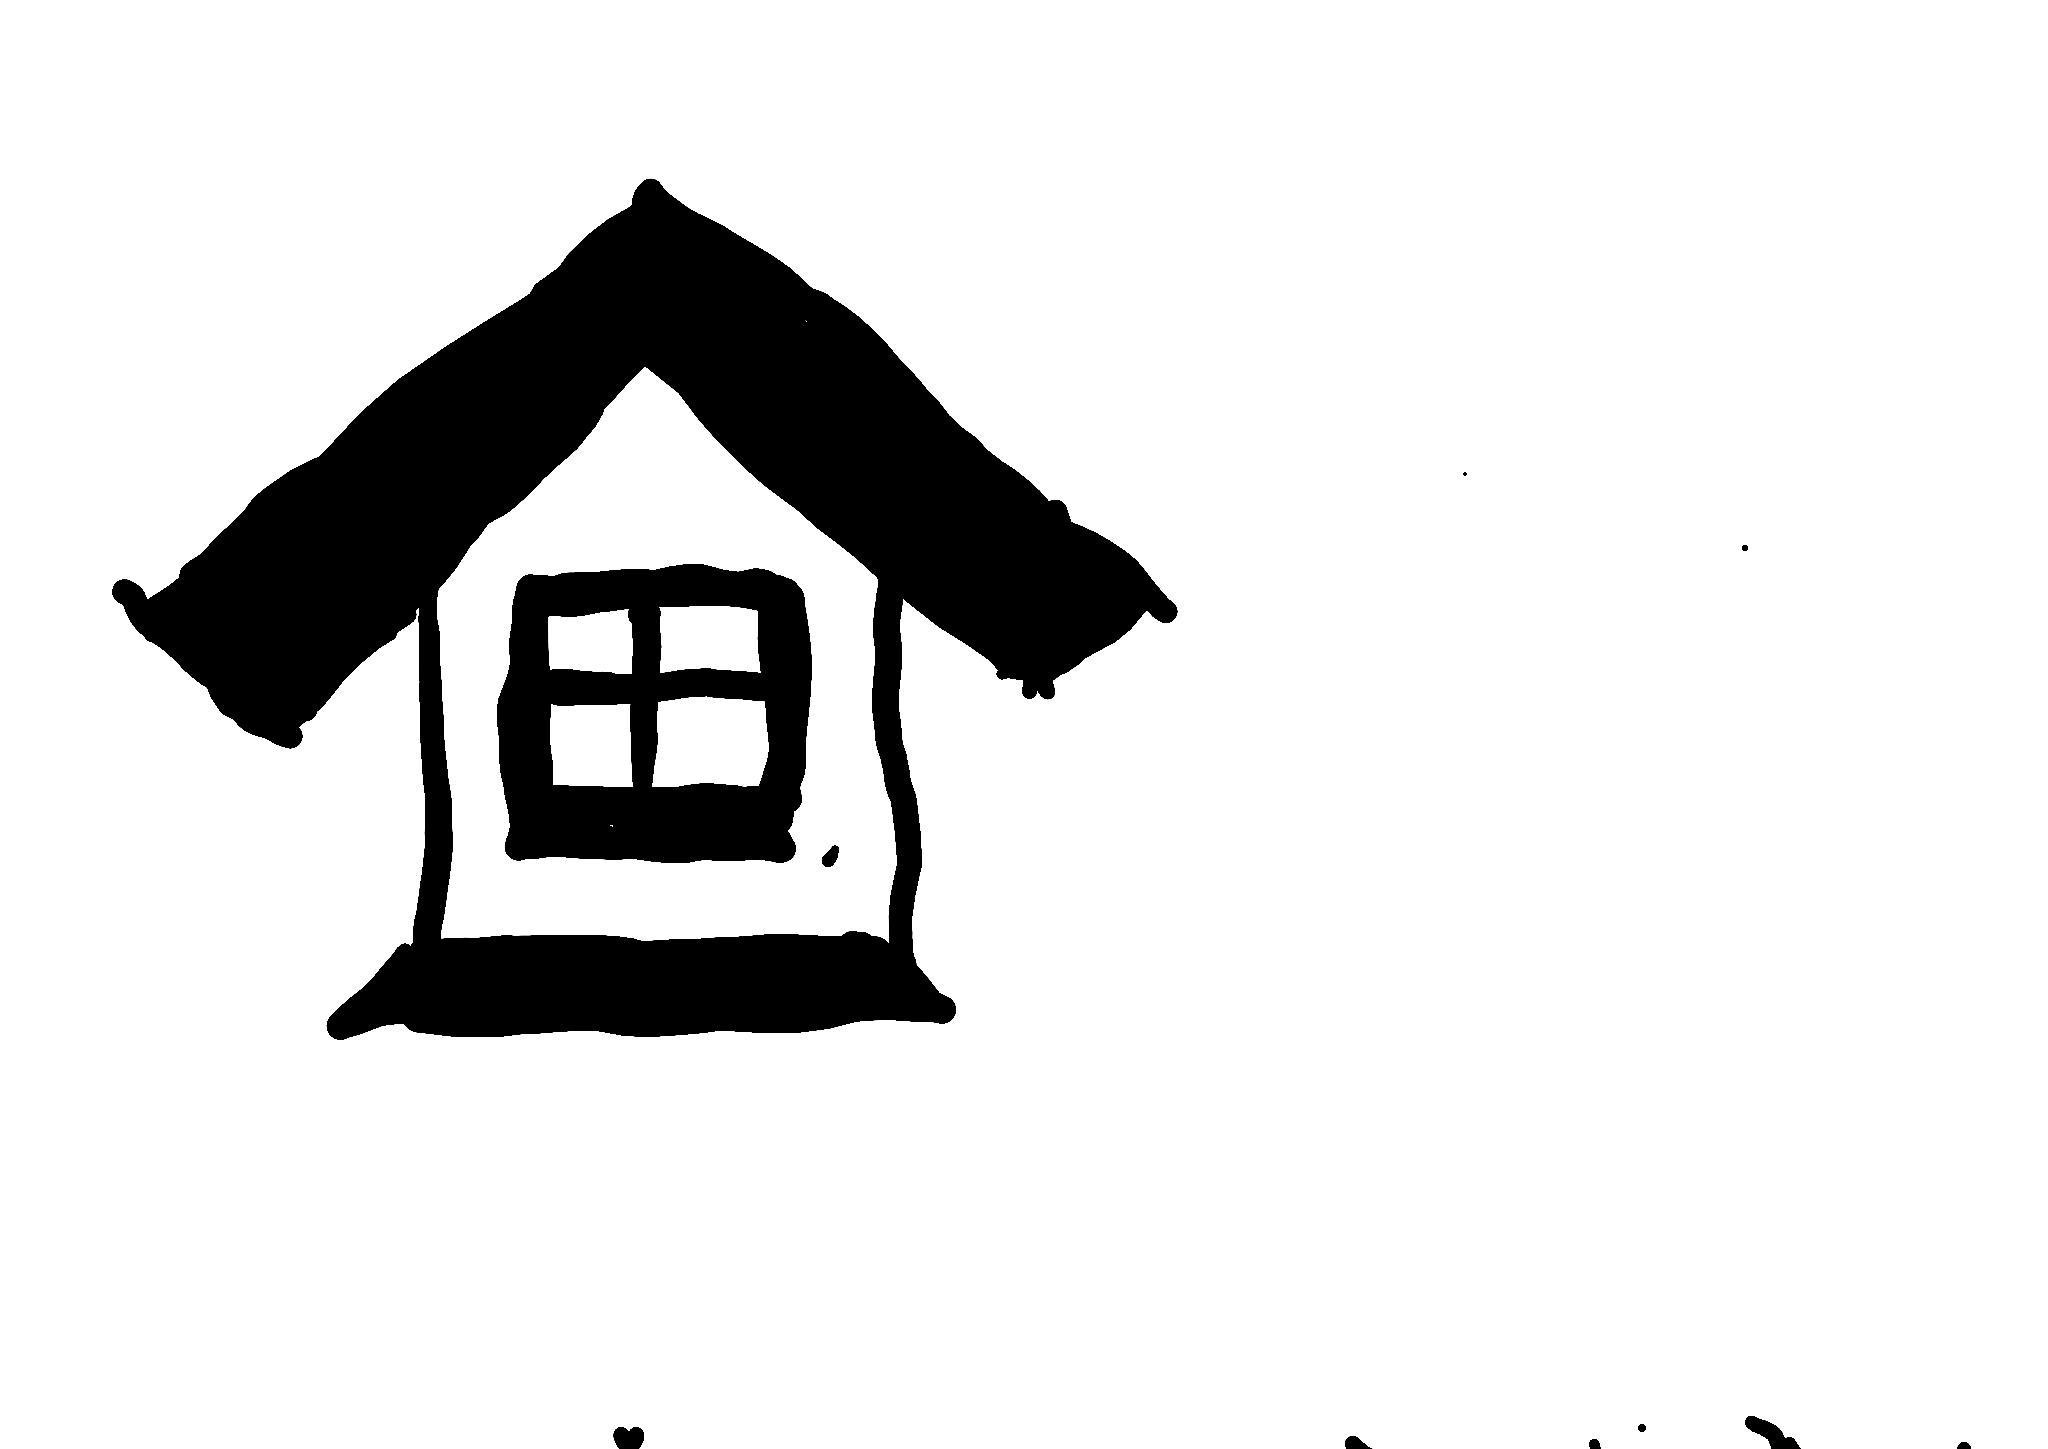house: (102, 168, 1186, 1048)
roof: (102, 162, 1179, 754)
wall: (412, 376, 910, 947)
window: (502, 586, 795, 842)
